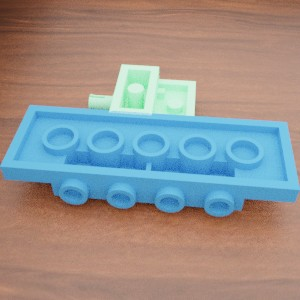lego: (0, 105, 300, 216), (88, 64, 195, 143)
